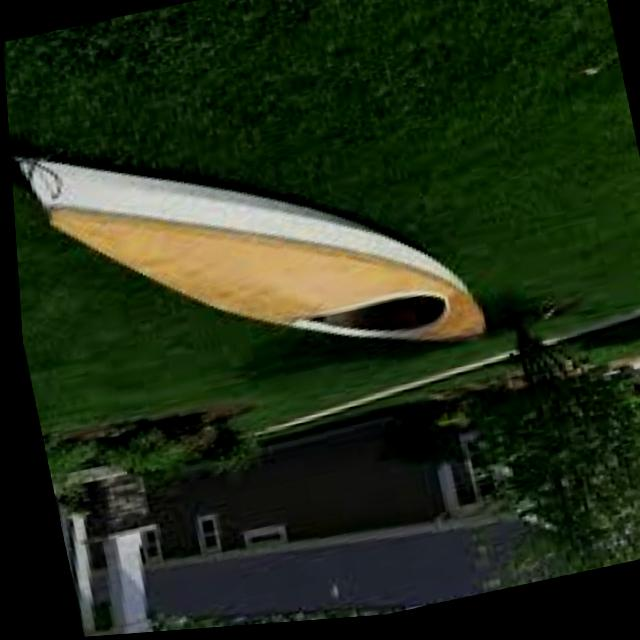ship2: (8, 153, 481, 348)
